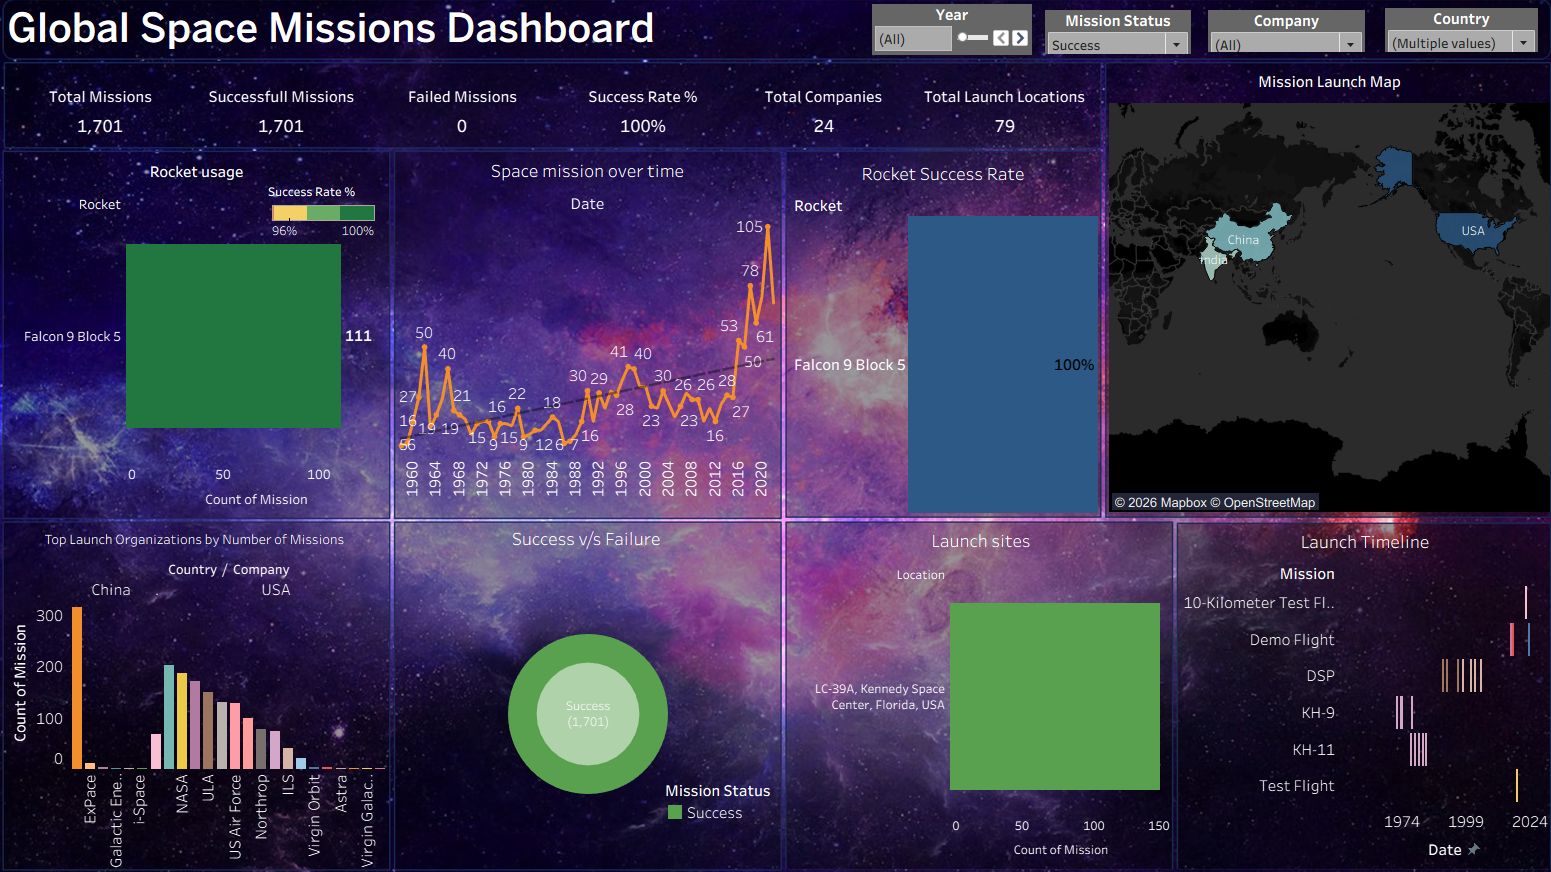

What the dashboard file says about the page in this screenshot:
{"tool":"tableau","page":{"name":"Space mission dashboard","canvas":[1580,900],"ordinal":0},"visuals":[{"type":"image","param":"Image/space background.png","box":[8,8,1564,884]},{"type":"filter","title":"Filters","param":"[federated.16n310l1mkbzr01efwcor0iu8qdv].[yr:Date:ok]","box":[885,17,160,51]},{"type":"text","box":[17,21,664,41]},{"type":"filter","title":"Filters","param":"[federated.16n310l1mkbzr01efwcor0iu8qdv].[none:Calculation_0682570195472391:nk]","box":[1398,21,153,44]},{"type":"filter","title":"Filters","param":"[federated.16n310l1mkbzr01efwcor0iu8qdv].[none:MissionStatus:nk]","box":[1058,23,146,44]},{"type":"filter","title":"Filters","param":"[federated.16n310l1mkbzr01efwcor0iu8qdv].[none:Company:nk]","box":[1221,23,157,42]},{"type":"worksheet","title":"KPI Cards","mark":"Text","box":[23,80,1085,77]},{"type":"worksheet","title":"Mission Launch Map","mark":"Automatic","box":[1122,80,441,445]},{"type":"worksheet","title":"Space mission over time","mark":"Automatic","rows":["Mission"],"cols":["Date"],"box":[411,167,379,362]},{"type":"worksheet","title":"Rocket usage","mark":"Automatic","rows":["Rocket"],"cols":["Mission"],"box":[19,170,381,358]},{"type":"worksheet","title":"Rocket Success Rate","mark":"Square","rows":["Rocket"],"box":[801,170,310,356]},{"type":"legend","title":"Rocket usage","param":"[federated.16n310l1mkbzr01efwcor0iu8qdv].[usr:Calculation_0682570191486979:qk]","box":[281,196,111,70]},{"type":"worksheet","title":"Success v/s Failure ","mark":"Pie","rows":["Calculation_0682570200645641","Calculation_0682570200645641"],"box":[411,535,380,345]},{"type":"worksheet","title":"Launch sites","mark":"Automatic","rows":["Location"],"cols":["Mission"],"box":[803,537,382,341]},{"type":"worksheet","title":"Launch Timeline","mark":"GanttBar","rows":["Mission"],"cols":["Date"],"box":[1193,538,370,342]},{"type":"worksheet","title":"Top Launch Organizations by Number of Missions","mark":"Automatic","rows":["Mission"],"cols":["Calculation_0682570195472391","Company"],"box":[15,539,385,343]},{"type":"worksheet","title":"Filters","mark":"Automatic","box":[482,587,64,38]},{"type":"legend","title":"Success v/s Failure ","param":"[federated.16n310l1mkbzr01efwcor0iu8qdv].[none:MissionStatus:nk]","box":[678,793,107,85]}]}

Visuals, with their boxes in screenshot pixels (x1, y1, x2, y2), scaled from the page's 1580x900 canvas onto the 1551x872 screenshot:
image: select_region(8, 8, 1543, 864)
"Filters" filter: select_region(869, 16, 1026, 66)
text: select_region(17, 20, 669, 60)
"Filters" filter: select_region(1372, 20, 1523, 63)
"Filters" filter: select_region(1039, 22, 1182, 65)
"Filters" filter: select_region(1199, 22, 1353, 63)
"KPI Cards" worksheet (Text marks): select_region(23, 78, 1088, 152)
"Mission Launch Map" worksheet: select_region(1101, 78, 1534, 509)
"Space mission over time" worksheet: select_region(403, 162, 776, 513)
"Rocket usage" worksheet: select_region(19, 165, 393, 512)
"Rocket Success Rate" worksheet (Square marks): select_region(786, 165, 1091, 510)
"Rocket usage" legend: select_region(276, 190, 385, 258)
"Success v/s Failure " worksheet (Pie marks): select_region(403, 518, 776, 853)
"Launch sites" worksheet: select_region(788, 520, 1163, 851)
"Launch Timeline" worksheet (GanttBar marks): select_region(1171, 521, 1534, 853)
"Top Launch Organizations by Number of Missions" worksheet: select_region(15, 522, 393, 855)
"Filters" worksheet: select_region(473, 569, 536, 606)
"Success v/s Failure " legend: select_region(666, 768, 771, 851)
